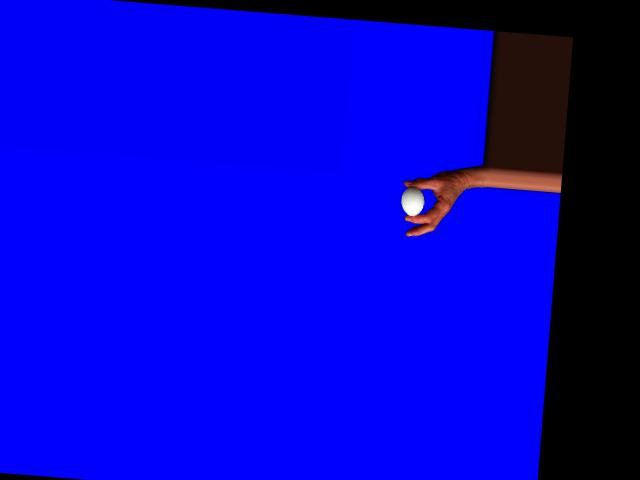egg: (399, 185, 425, 217)
